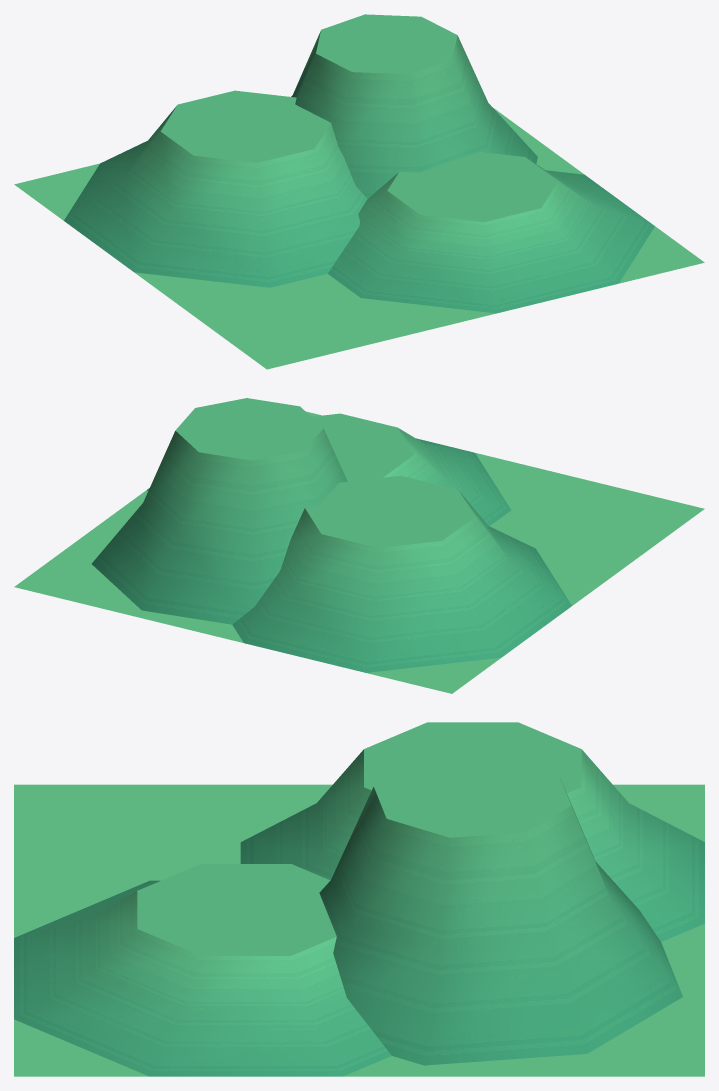
Rendered from ground-hills.glb.
3 views of the same model, one above another, from view 1: azimuth 30°, elevation 25°; view 2: azimuth 150°, elevation 25°; view 3: azimuth 270°, elevation 25° (orthographic). The views are drawn at different scales.
Visible parts, largest first — view 1: ground-hills; view 2: ground-hills; view 3: ground-hills.
Part boxes in pixels (box(x1,y1,x2,y2)): ground-hills: box(14, 14, 704, 369); ground-hills: box(14, 398, 704, 693); ground-hills: box(14, 722, 704, 1076).
Bounding box in the file's own units: 1 × 0.2883 × 1.
Materials: 1 (1 with a texture image).
